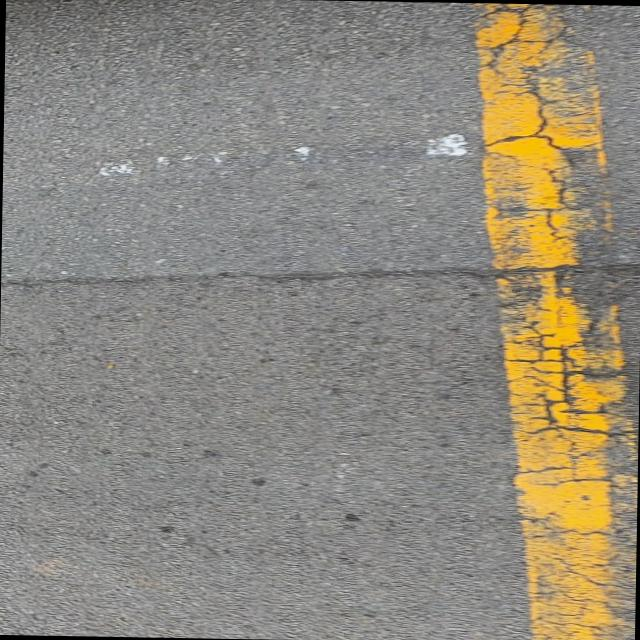Retak-Melintang: (1, 261, 640, 288)
